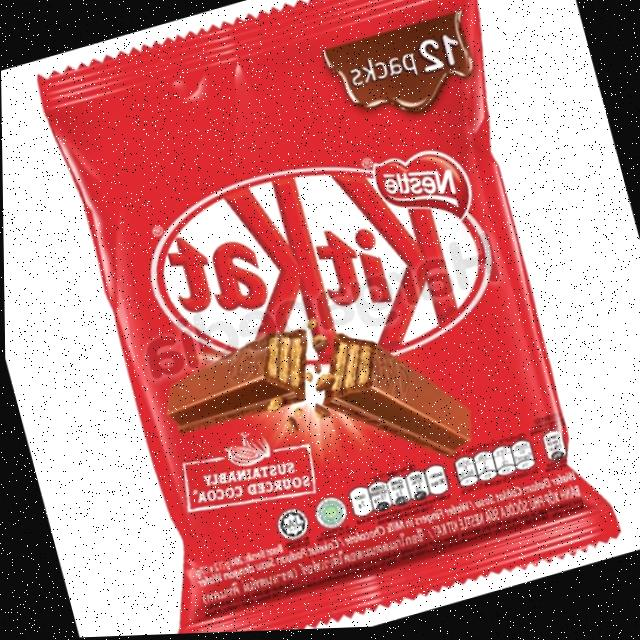kitkat: (20, 0, 619, 639)
